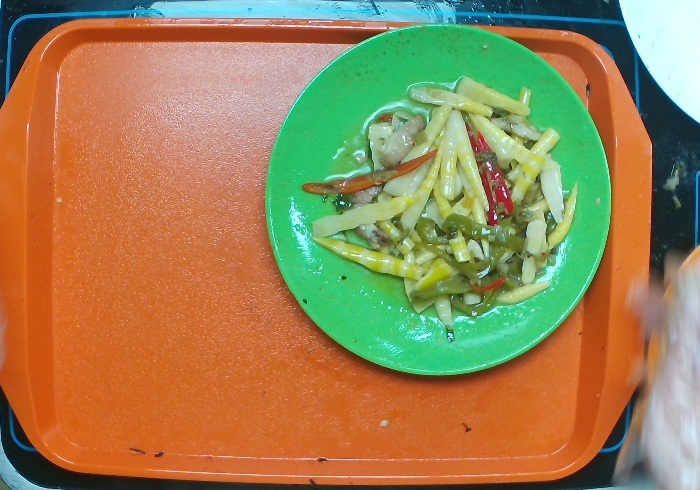HZYJPL-Lv_Se_Yuan_Pan: (246, 14, 621, 388)
